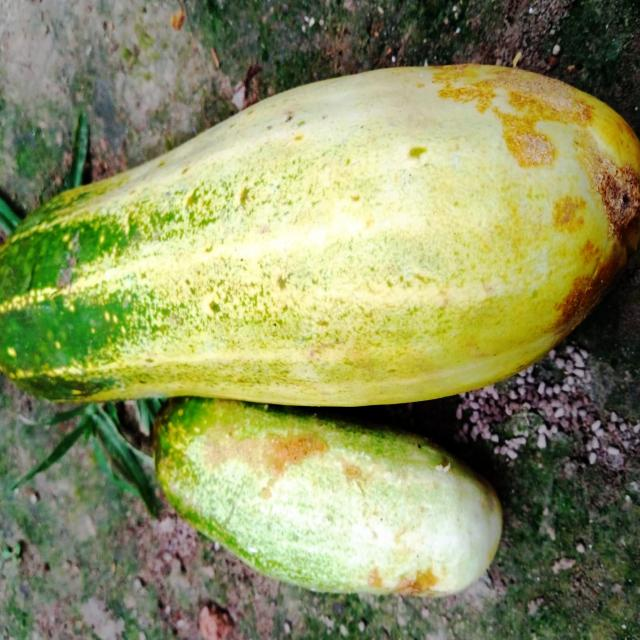Belly-Rot: (430, 66, 640, 334), (205, 424, 338, 504), (364, 554, 444, 600)
